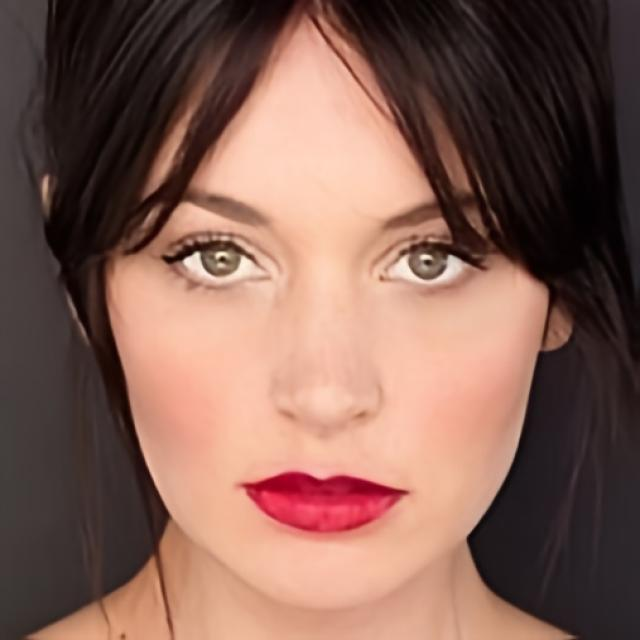neutral: (106, 5, 546, 615)
